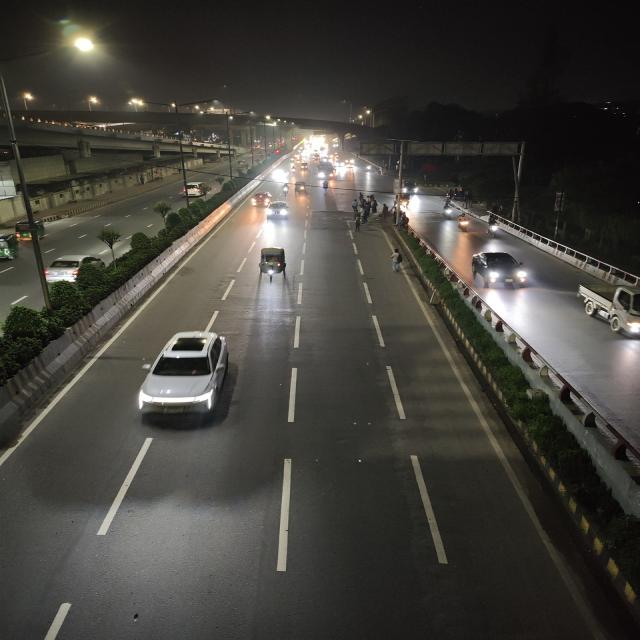bus: (316, 162, 337, 180)
car: (119, 318, 247, 435), (470, 242, 529, 298), (41, 254, 101, 282), (178, 178, 209, 200), (262, 202, 290, 223), (252, 190, 271, 208)
cng: (254, 240, 304, 298), (8, 216, 51, 243), (0, 234, 22, 262), (293, 182, 309, 196), (396, 192, 410, 208), (299, 162, 310, 171), (238, 159, 248, 168)
motorcycle: (482, 213, 506, 241), (455, 213, 474, 234), (319, 178, 334, 192), (442, 204, 454, 221), (281, 184, 292, 198), (288, 166, 298, 174)
pedestrian: (386, 250, 402, 274), (352, 210, 362, 234), (381, 202, 392, 220), (358, 205, 368, 223), (369, 199, 380, 213), (356, 192, 366, 207), (351, 198, 359, 212)
pickup_van: (579, 273, 640, 342)
